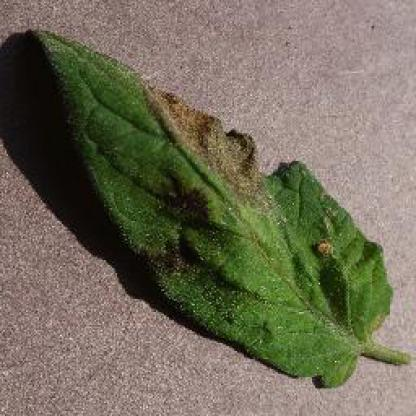bad leaf: (19, 16, 396, 386)
